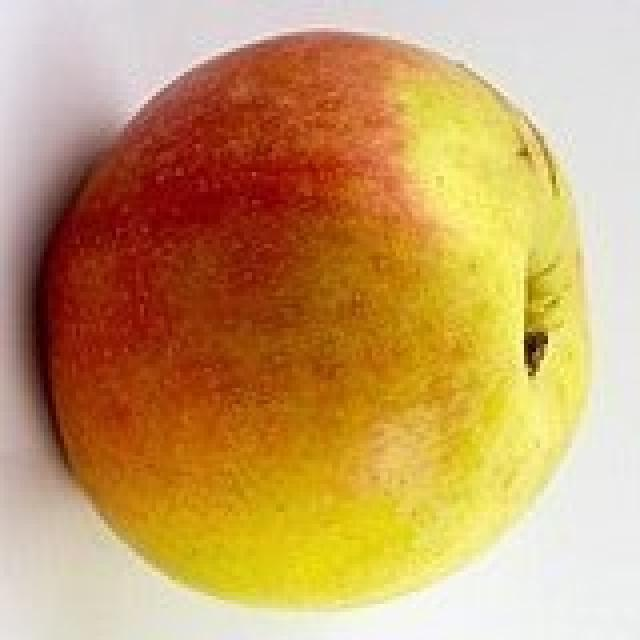apple: (38, 33, 588, 604)
